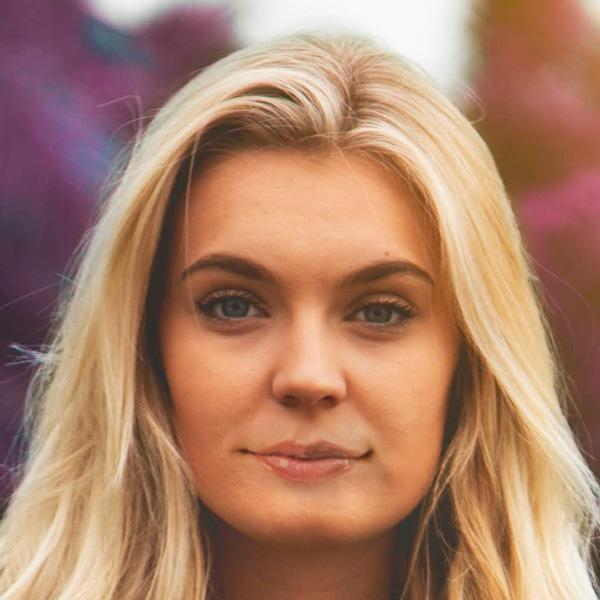Eyes: (184, 276, 279, 336), (335, 284, 425, 343)
